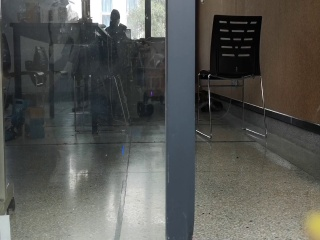room: (1, 4, 315, 234)
